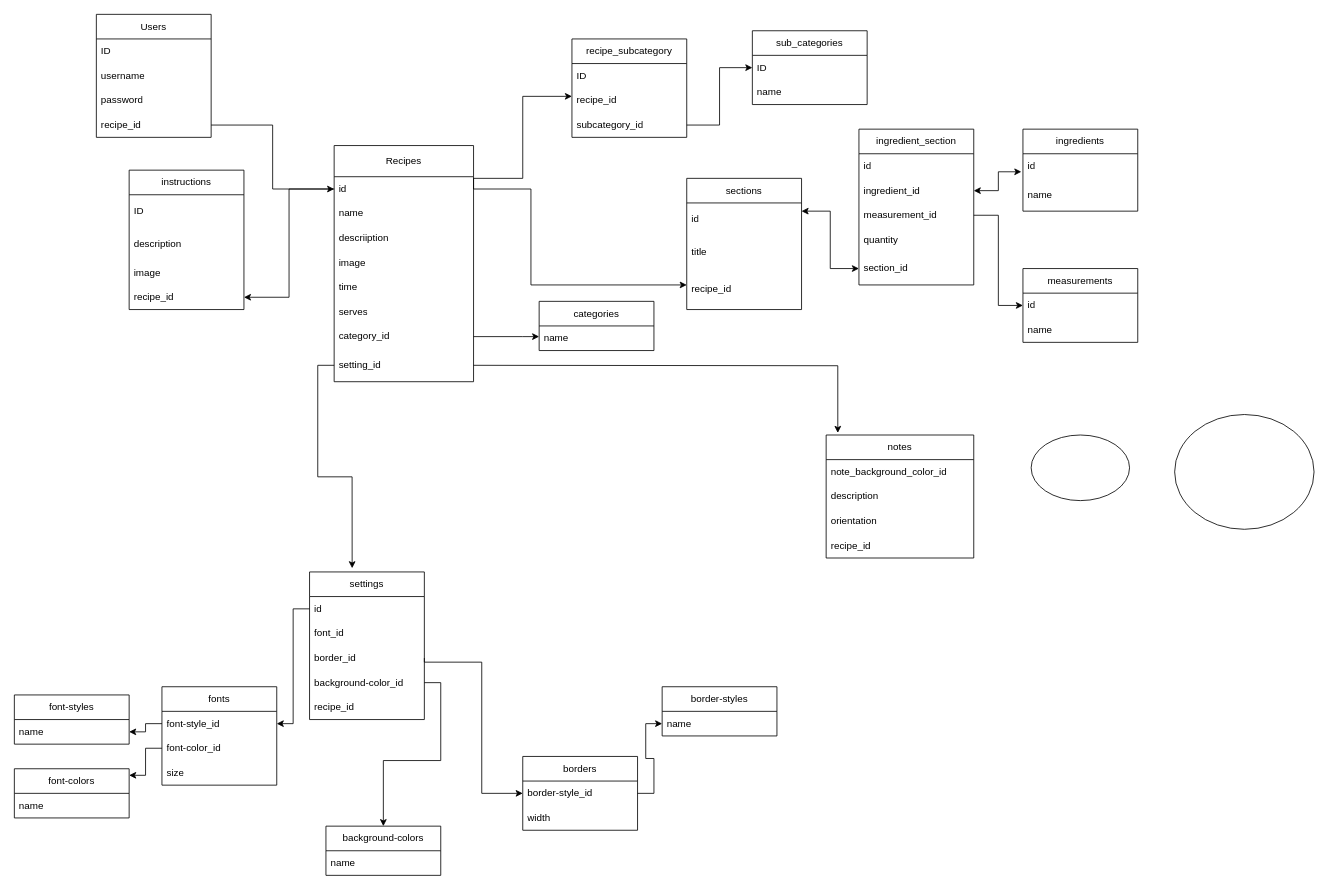
This 1328x890 diagram has some shape labels left out. Here are the shapes that lost their labels. From the top down, the centre of each, then its label:
At pixel 1080 467: "est-ceque recipe_id dois etre inclus dans le join?".
At pixel 1244 471: "quantité & measurement_id devrais etre dans ingredient_section?".
